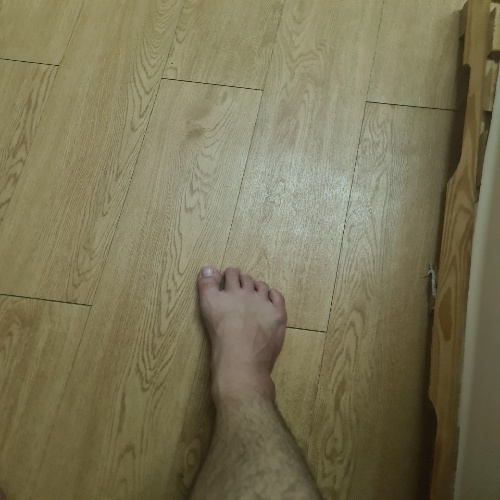3: (198, 267, 223, 295)
Top_Foot: (197, 267, 288, 417)
